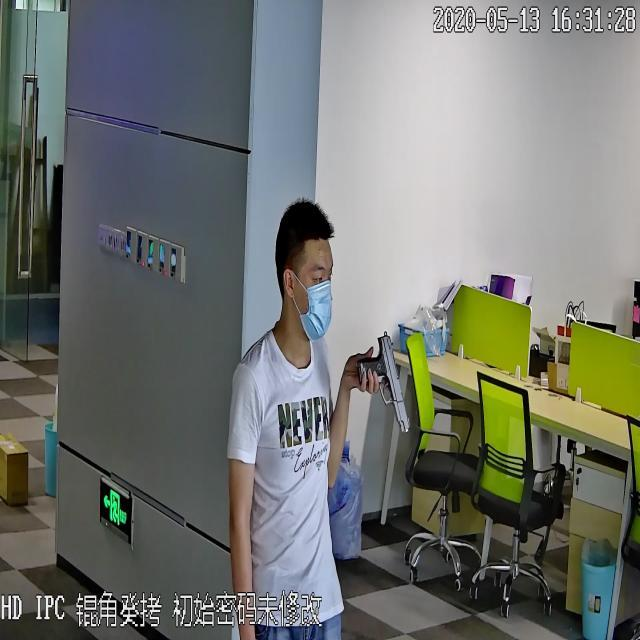gun: (355, 325, 410, 434)
